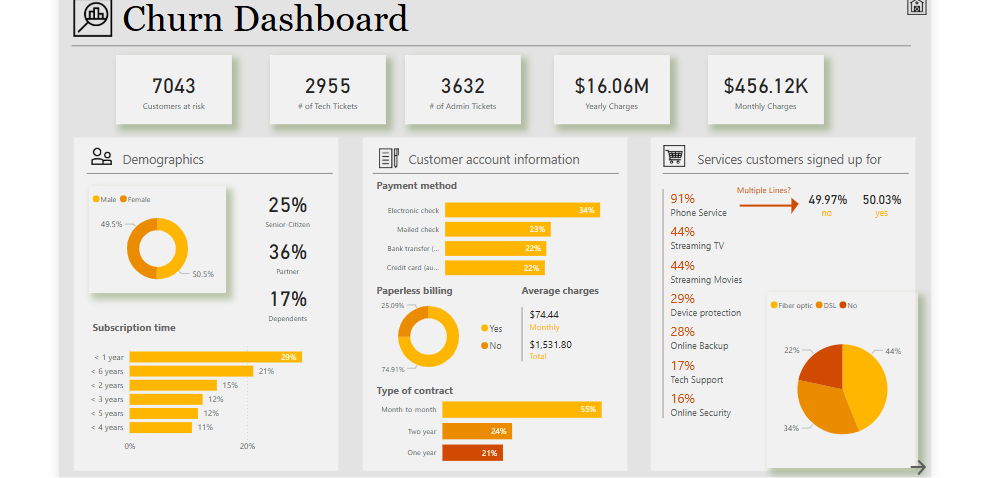

The page's visual inventory and layout, read from the dashboard file:
{"tool":"powerbi","page":{"name":"Churn","canvas":[1280,720],"ordinal":1},"visuals":[{"type":"textbox","box":[87.7,4.9,1173.8,75],"z":0},{"type":"basicShape","box":[8.7,60.7,1253,40.5],"z":1000},{"type":"basicShape","box":[18.3,210,396.8,499.9],"z":2000},{"type":"card","fields":{"Values":["CountNonNull(churn.customerID)"]},"box":[84,94.1,169.7,102.5],"z":3000},{"type":"basicShape","box":[441.6,210,396.8,499.9],"z":4000},{"type":"basicShape","box":[864.9,210,396.8,499.9],"z":5000},{"type":"textbox","box":[508.5,228.6,314.9,35.6],"z":6000},{"type":"basicShape","box":[450.7,248.9,381.4,39.5],"z":7000},{"type":"image","box":[461.3,226.3,47.2,39.5],"z":8000},{"type":"textbox","box":[932.7,228.6,314.9,35.6],"z":9000},{"type":"basicShape","box":[877.4,248.9,381.4,39.5],"z":10000},{"type":"textbox","box":[88,228.6,314.9,35.6],"z":11000},{"type":"basicShape","box":[30.2,248.9,381.4,39.5],"z":12000},{"type":"image","box":[883.2,220.6,42.4,43.3],"z":13000},{"type":"image","box":[43.3,220.6,40.5,44.3],"z":14000},{"type":"donutChart","fields":{"Category":["churn.gender"],"Y":["CountNonNull(churn.gender)"]},"box":[43.8,286,201.3,156.6],"z":15000},{"type":"card","fields":{"Values":["churn.SeniorCitizen in %"]},"box":[271.4,268.7,128.1,100.2],"z":16000},{"type":"card","fields":{"Values":["churn.Partner in %"]},"box":[271.4,338.1,128.4,100.2],"z":17000},{"type":"card","fields":{"Values":["churn.Dependents in %"]},"box":[271.4,407.5,128.4,100.2],"z":18000},{"type":"clusteredBarChart","fields":{"Category":["churn.Contract"],"Y":["CountNonNull(churn.Contract)"]},"box":[461.3,577.9,370.8,131.9],"z":19000},{"type":"clusteredBarChart","fields":{"Y":["CountNonNull(churn.PaymentMethod)"],"Category":["churn.PaymentMethod"]},"box":[461.3,286,370.8,148.3],"z":20000},{"type":"textbox","box":[461.3,269.7,314.9,35.6],"z":21000},{"type":"textbox","box":[461.3,424.7,204.2,35.6],"z":22000},{"type":"donutChart","fields":{"Category":["churn.PaperlessBilling"],"Y":["CountNonNull(churn.PaperlessBilling)"]},"box":[461.3,438.2,204.2,139.7],"z":23000},{"type":"multiRowCard","fields":{"Values":["Avg(churn.MonthlyCharges)","Avg(churn.TotalCharges)"]},"box":[674.2,460.4,149.3,95.3],"z":24000},{"type":"textbox","box":[461.3,572.1,314.9,35.6],"z":25000},{"type":"pieChart","fields":{"Category":["churn.InternetService"],"Y":["Divide(CountNonNull(churn.InternetService), ScopedEval(CountNonNull(churn.InternetService), []))"]},"box":[1039.8,441.8,221.7,258.7],"z":26000},{"type":"card","fields":{"Values":["churn.Multiple Lines in %"]},"box":[1172.8,276.4,72.2,62.6],"z":27000},{"type":"card","fields":{"Values":["churn.Multiple lines no in %"]},"box":[1093.1,276.4,72.2,61.6],"z":28000},{"type":"textbox","box":[971.7,278.2,129.4,27.2],"z":29000},{"type":"textbox","box":[1092.2,311,73.2,35.6],"z":30000},{"type":"textbox","box":[1172.8,311,73.2,35.6],"z":31000},{"type":"textbox","box":[674.2,424.7,148.3,35.6],"z":32000},{"type":"multiRowCard","fields":{"Values":["churn.Phone Service in %","churn.Streaming TV in %","churn.Streaming Movies in %","churn.Device protection in %","churn.Online Bacup in %","churn.Tech Support in %","churn.Online Sec. in %"]},"box":[882.2,286,165.3,414.3],"z":33000},{"type":"basicShape","box":[990.2,300.5,97.3,28.2],"z":34000},{"type":"basicShape","box":[1063.1,296.7,37.9,32.1],"z":35000},{"type":"clusteredBarChart","fields":{"Y":["CountNonNull(churn.Churn)"],"Category":["churn.Loyalty"]},"box":[37,507.7,365.7,179],"z":36000},{"type":"textbox","box":[43.8,478.5,314.2,35],"z":37000},{"type":"actionButton","box":[1246.1,680.1,31.6,39.5],"z":39000},{"type":"image","box":[16.6,4.9,67.2,68.2],"z":40000},{"type":"card","fields":{"Values":["Sum(churn.MonthlyCharges)"]},"box":[954.1,94.1,169.7,102.5],"z":41000},{"type":"card","fields":{"Values":["Sum(churn.numTechTickets)"]},"box":[310.8,94.1,169.7,102.5],"z":44000},{"type":"card","fields":{"Values":["Sum(churn.numAdminTickets)"]},"box":[509,94.1,169.7,102.5],"z":45000},{"type":"card","fields":{"Values":["Sum(churn.TotalCharges)"]},"box":[727.3,94.1,169.7,102.5],"z":46000},{"type":"image","box":[1242,0,38,42.9],"z":49000}]}

Visuals, with their boxes on the page's 1280x720 design canvas (x1, y1, x2, y2). These are canvas units, not pixel positions in the 994x478 screenshot, which may show the page scaled, cropped or inside an application window:
textbox: select_region(88, 5, 1262, 80)
basicShape: select_region(9, 61, 1262, 101)
basicShape: select_region(18, 210, 415, 710)
card - CountNonNull(churn.customerID): select_region(84, 94, 254, 197)
basicShape: select_region(442, 210, 838, 710)
basicShape: select_region(865, 210, 1262, 710)
textbox: select_region(508, 229, 823, 264)
basicShape: select_region(451, 249, 832, 288)
image: select_region(461, 226, 508, 266)
textbox: select_region(933, 229, 1248, 264)
basicShape: select_region(877, 249, 1259, 288)
textbox: select_region(88, 229, 403, 264)
basicShape: select_region(30, 249, 412, 288)
image: select_region(883, 221, 926, 264)
image: select_region(43, 221, 84, 265)
donutChart - churn.gender x CountNonNull(churn.gender): select_region(44, 286, 245, 443)
card - churn.SeniorCitizen in %: select_region(271, 269, 400, 369)
card - churn.Partner in %: select_region(271, 338, 400, 438)
card - churn.Dependents in %: select_region(271, 408, 400, 508)
clusteredBarChart - churn.Contract x CountNonNull(churn.Contract): select_region(461, 578, 832, 710)
clusteredBarChart - CountNonNull(churn.PaymentMethod) x churn.PaymentMethod: select_region(461, 286, 832, 434)
textbox: select_region(461, 270, 776, 305)
textbox: select_region(461, 425, 666, 460)
donutChart - churn.PaperlessBilling x CountNonNull(churn.PaperlessBilling): select_region(461, 438, 666, 578)
multiRowCard - Avg(churn.MonthlyCharges) x Avg(churn.TotalCharges): select_region(674, 460, 824, 556)
textbox: select_region(461, 572, 776, 608)
pieChart - churn.InternetService x Divide(CountNonNull(churn.InternetService), ScopedEval(CountNonNull(churn.InternetService), [])): select_region(1040, 442, 1262, 700)
card - churn.Multiple Lines in %: select_region(1173, 276, 1245, 339)
card - churn.Multiple lines no in %: select_region(1093, 276, 1165, 338)
textbox: select_region(972, 278, 1101, 305)
textbox: select_region(1092, 311, 1165, 347)
textbox: select_region(1173, 311, 1246, 347)
textbox: select_region(674, 425, 822, 460)
multiRowCard - churn.Phone Service in % x churn.Streaming TV in %: select_region(882, 286, 1048, 700)
basicShape: select_region(990, 300, 1088, 329)
basicShape: select_region(1063, 297, 1101, 329)
clusteredBarChart - CountNonNull(churn.Churn) x churn.Loyalty: select_region(37, 508, 403, 687)
textbox: select_region(44, 478, 358, 514)
actionButton: select_region(1246, 680, 1278, 720)
image: select_region(17, 5, 84, 73)
card - Sum(churn.MonthlyCharges): select_region(954, 94, 1124, 197)
card - Sum(churn.numTechTickets): select_region(311, 94, 480, 197)
card - Sum(churn.numAdminTickets): select_region(509, 94, 679, 197)
card - Sum(churn.TotalCharges): select_region(727, 94, 897, 197)
image: select_region(1242, 0, 1280, 43)
